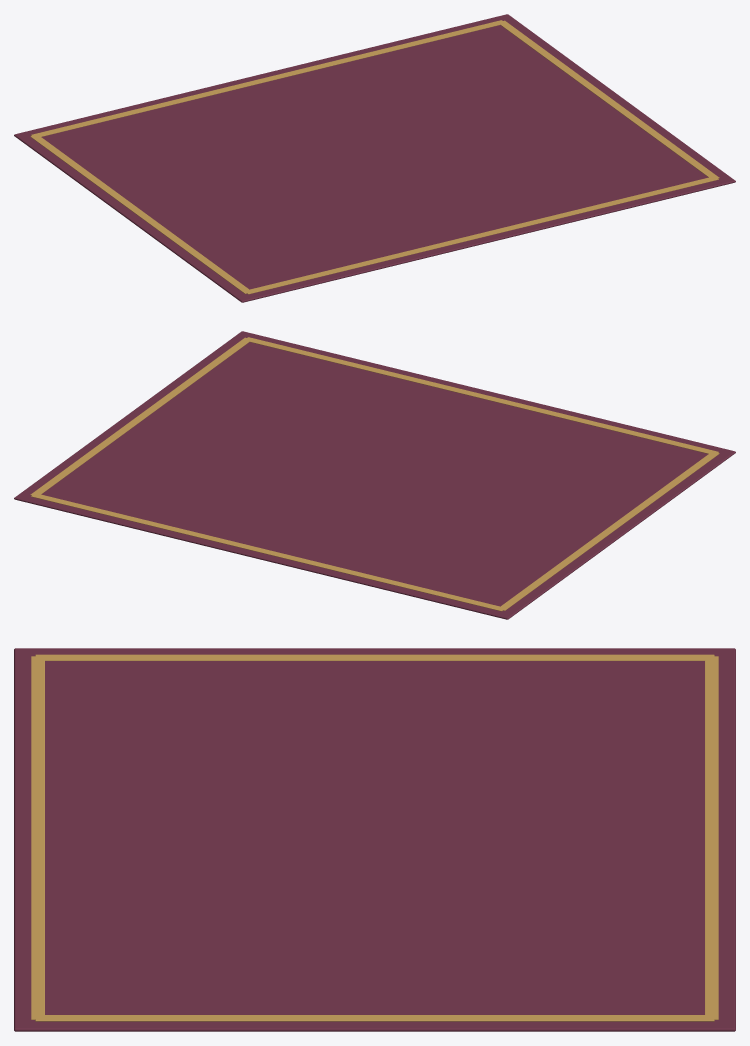
File: speakeasy-rug.glb
3 renders of one model, top to bottom at view 1: azimuth 30°, elevation 25°; view 2: azimuth 150°, elevation 25°; view 3: azimuth 270°, elevation 25°, orthographic. The views are drawn at different scales.
Visible parts, largest first — view 1: speakeasy-rug - Room Review woven rug runtime PBR, speakeasy-rug - Room Review trim runtime PBR; view 2: speakeasy-rug - Room Review woven rug runtime PBR, speakeasy-rug - Room Review trim runtime PBR; view 3: speakeasy-rug - Room Review woven rug runtime PBR, speakeasy-rug - Room Review trim runtime PBR.
Boxes of the visible parts, x1,y1,x2,y2 form: speakeasy-rug - Room Review woven rug runtime PBR: (14,14,735,302); speakeasy-rug - Room Review trim runtime PBR: (30,20,719,294); speakeasy-rug - Room Review woven rug runtime PBR: (14,331,735,619); speakeasy-rug - Room Review trim runtime PBR: (30,337,719,611); speakeasy-rug - Room Review woven rug runtime PBR: (14,648,735,1031); speakeasy-rug - Room Review trim runtime PBR: (31,654,718,1021).
Bounding box in the file's own units: 5.25 × 0.0245 × 4.2.
